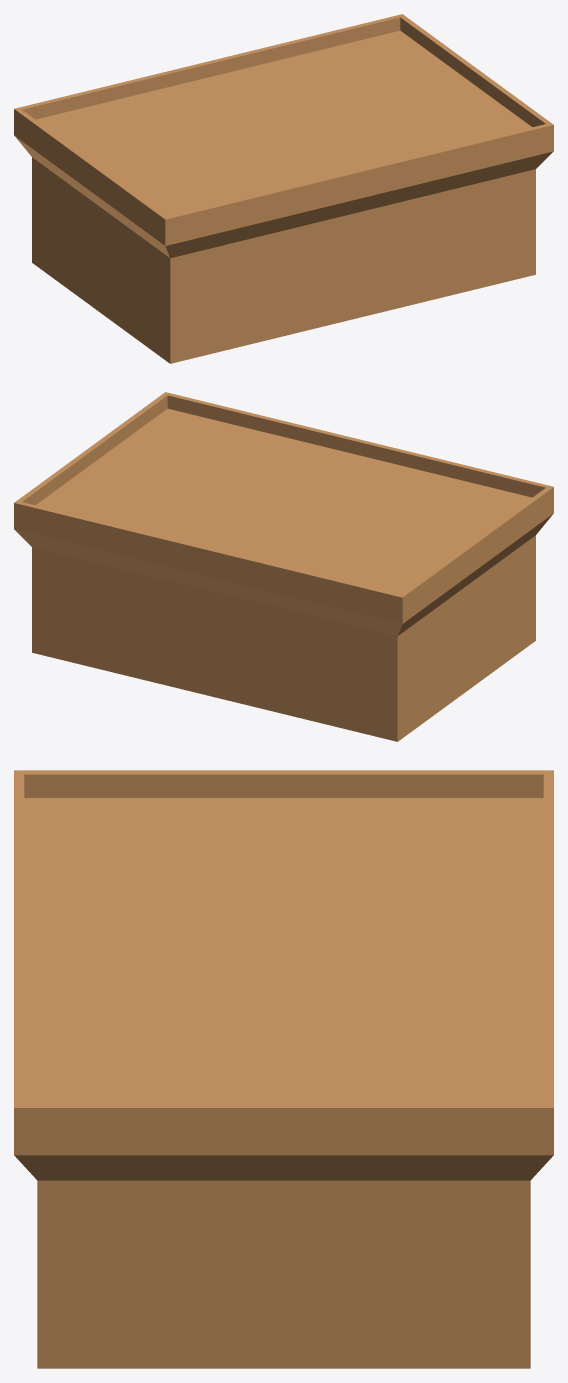
File: Table.fbx
The picture shows the model from 3 angles, top to bottom: view 1: azimuth 30°, elevation 25°; view 2: azimuth 150°, elevation 25°; view 3: azimuth 270°, elevation 25°; orthographic projection. The views are drawn at different scales.
Visible parts, largest first — view 1: mesh_table; view 2: mesh_table; view 3: mesh_table.
Part boxes in pixels (<box>): mesh_table: <box>14,14,553,363</box>; mesh_table: <box>14,392,553,741</box>; mesh_table: <box>14,770,553,1368</box>.
Bounding box in the file's own units: 308 × 115 × 208.
